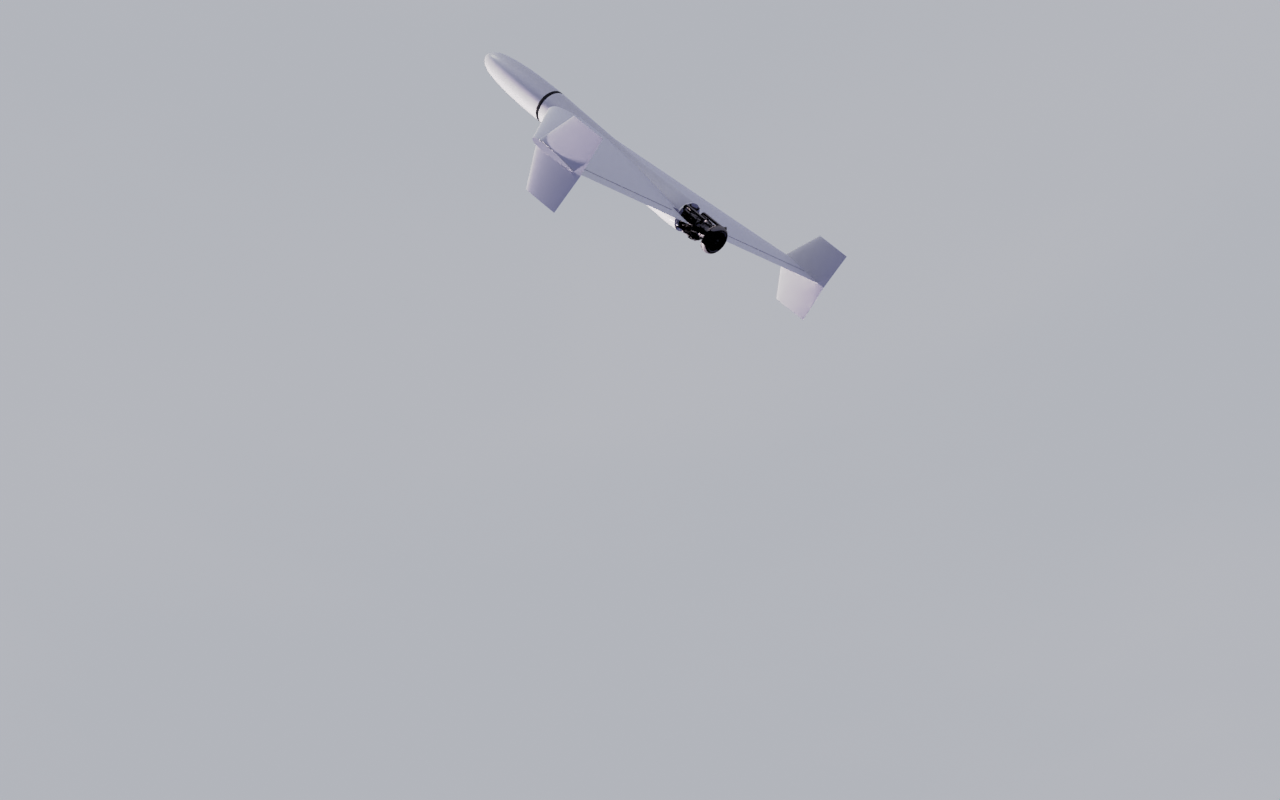shahed: (484, 52, 849, 322)
